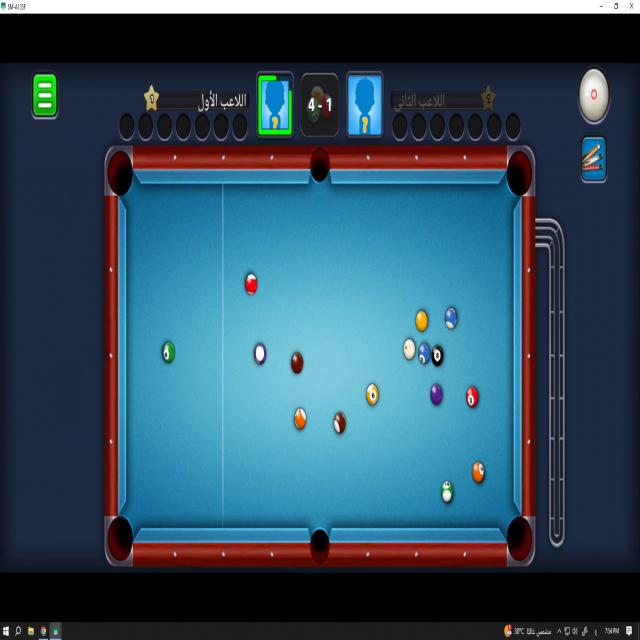object_ball: (418, 343, 431, 365), (441, 481, 453, 503), (432, 345, 444, 366), (430, 384, 442, 405), (294, 408, 306, 429), (367, 384, 378, 405), (292, 352, 303, 373), (163, 342, 174, 363), (255, 344, 266, 365), (334, 412, 345, 433), (416, 310, 427, 331), (473, 462, 484, 482), (246, 274, 256, 295), (446, 308, 456, 329), (467, 387, 477, 407)
white_cue_ball: (404, 339, 415, 360)
